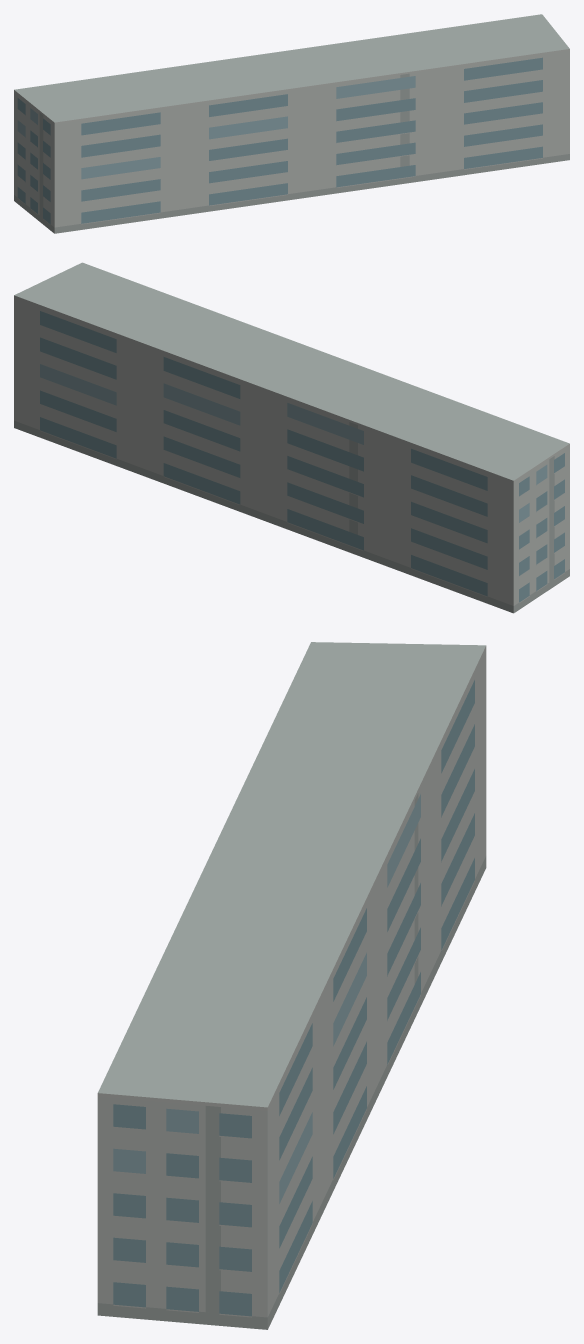
Rendered from residential-9114aff7-66f3-4ba1-beb1-ce670a2fb36b.glb.
The picture shows the model from 3 angles, top to bottom: view 1: azimuth 30°, elevation 25°; view 2: azimuth 150°, elevation 25°; view 3: azimuth 270°, elevation 25°; orthographic projection. The views are drawn at different scales.
Visible parts, largest first — view 1: residential-9114aff7-66f3-4ba1-beb1-ce670a2fb36b.tmp; view 2: residential-9114aff7-66f3-4ba1-beb1-ce670a2fb36b.tmp; view 3: residential-9114aff7-66f3-4ba1-beb1-ce670a2fb36b.tmp.
Part boxes in pixels (<box>): residential-9114aff7-66f3-4ba1-beb1-ce670a2fb36b.tmp: <box>14,14,569,233</box>; residential-9114aff7-66f3-4ba1-beb1-ce670a2fb36b.tmp: <box>14,262,569,613</box>; residential-9114aff7-66f3-4ba1-beb1-ce670a2fb36b.tmp: <box>97,642,486,1329</box>.
Bounding box in the file's own units: 68.44 × 15.25 × 24.16.
